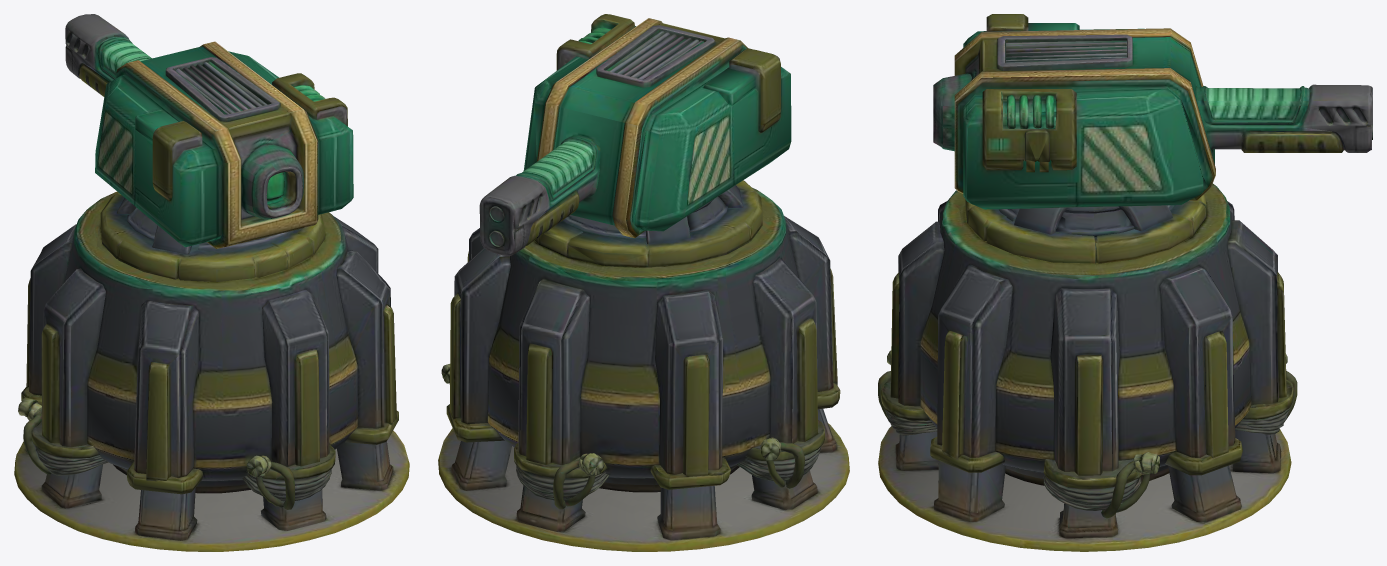
File: wave_force.glb
3 views of the same model, side by side, from view 1: azimuth 30°, elevation 25°; view 2: azimuth 150°, elevation 25°; view 3: azimuth 270°, elevation 25° (orthographic). The views are drawn at different scales.
Visible parts, largest first — view 1: Body, Turret, Barrel, Trim; view 2: Body, Turret, Barrel, Trim; view 3: Body, Turret, Barrel, Trim.
Part boxes in pixels (x1=…): Body: x1=14, y1=140, x2=409, y2=551; Turret: x1=67, y1=41, x2=357, y2=311; Barrel: x1=65, y1=14, x2=151, y2=96; Trim: x1=74, y1=159, x2=319, y2=294; Body: x1=438, y1=103, x2=849, y2=551; Turret: x1=499, y1=14, x2=796, y2=298; Barrel: x1=479, y1=107, x2=624, y2=265; Trim: x1=515, y1=104, x2=786, y2=289; Body: x1=878, y1=44, x2=1297, y2=551; Turret: x1=943, y1=14, x2=1212, y2=282; Barrel: x1=1190, y1=51, x2=1372, y2=216; Trim: x1=941, y1=78, x2=1230, y2=278.
Bounding box in the file's own units: 3.92 × 4.26 × 4.6.
Materials: 2 (2 with a texture image).
